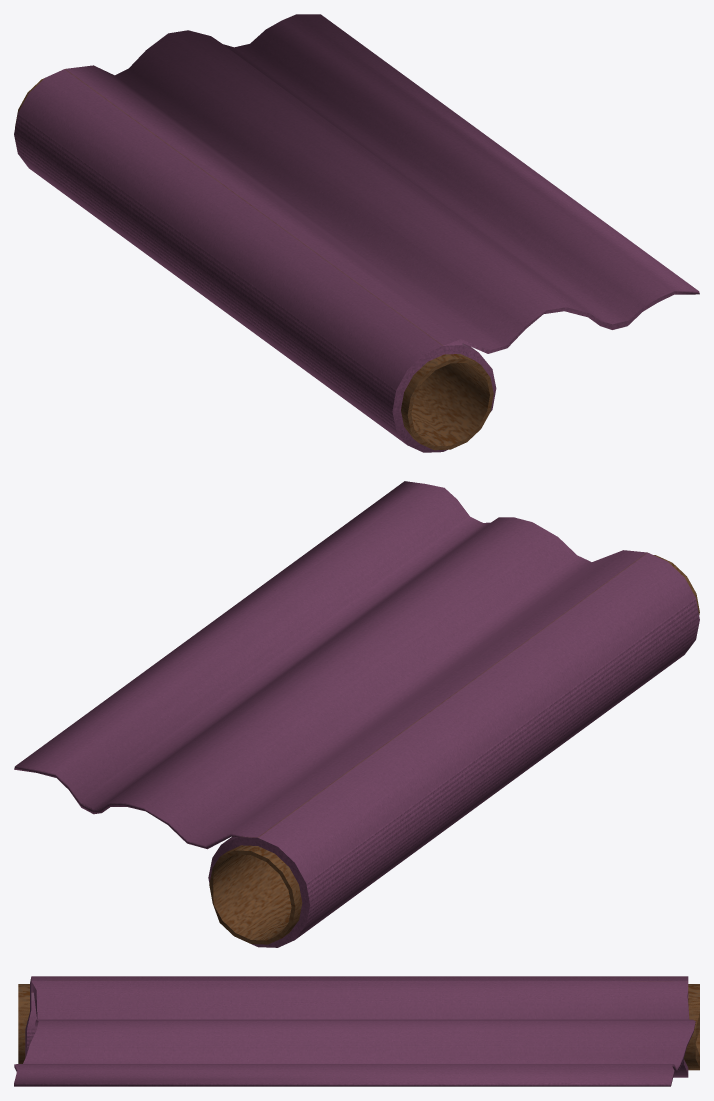
The model's file is Rouleau_deroule_sur_fermes_final.glb.
3 views of the same model, one above another, from view 1: azimuth 30°, elevation 25°; view 2: azimuth 150°, elevation 25°; view 3: azimuth 270°, elevation 25° (orthographic). The views are drawn at different scales.
Visible parts, largest first — view 1: Cylinder.009; view 2: Cylinder.009; view 3: Cylinder.009.
Boxes of the visible parts, left/top/right/bottom form: Cylinder.009: left=14, top=14, right=699, bottom=452; Cylinder.009: left=14, top=481, right=699, bottom=947; Cylinder.009: left=14, top=976, right=699, bottom=1086.
Size of the model in its own units: 0.1589 by 0.0573 by 0.3654.
1 material, 1 textured.
